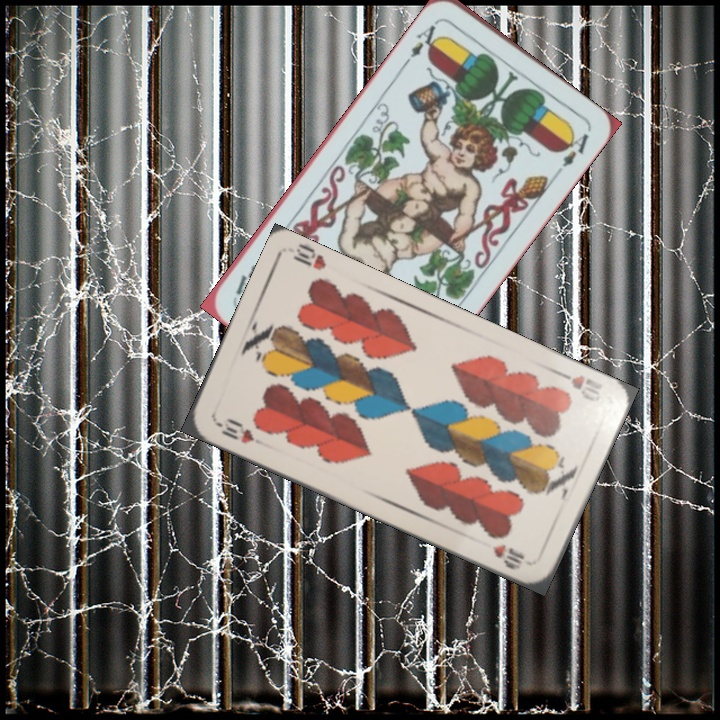EA: (401, 16, 444, 67)
H10: (552, 366, 605, 405), (211, 414, 257, 447)
